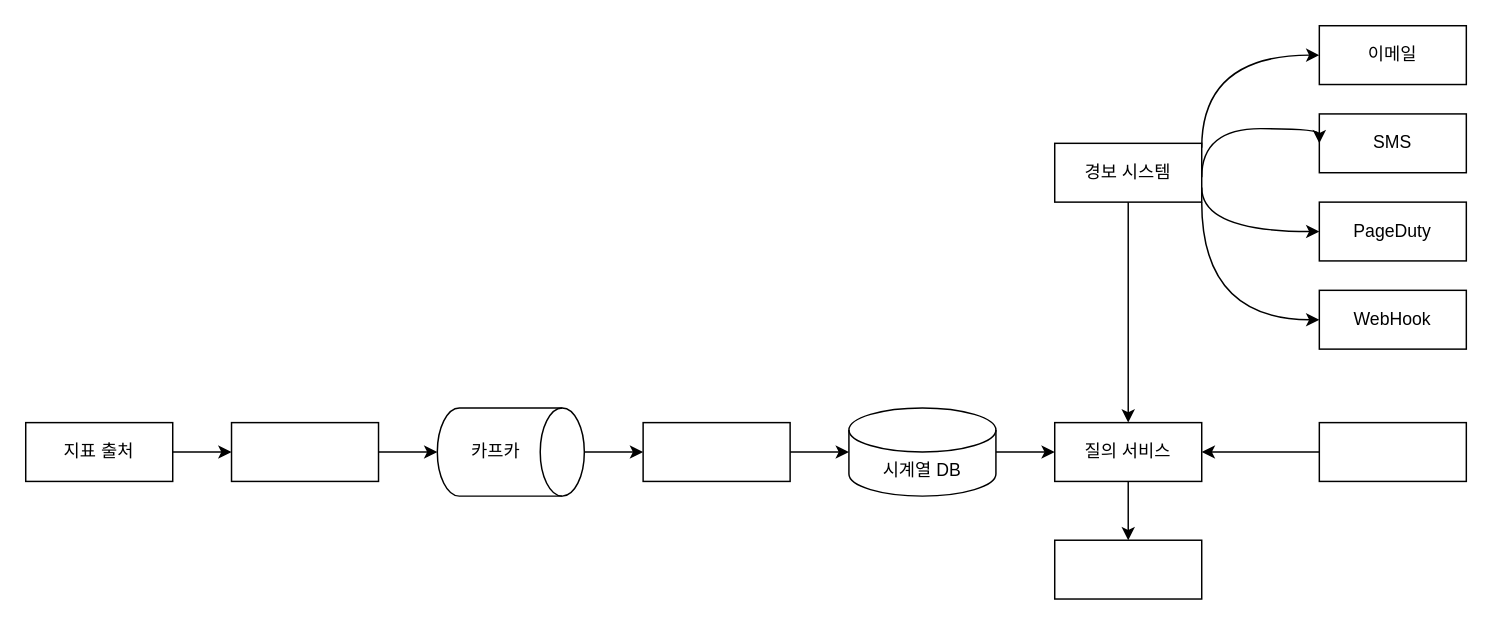
Some shapes in this 1492 by 625 pixel diagram are drawn without their labels. Each missing label, with the box of its shape:
소비자: (642, 421, 790, 481)
시각화 시스템: (1318, 421, 1466, 481)
지표 수집기: (230, 421, 379, 481)
캐시: (1053, 539, 1202, 599)
